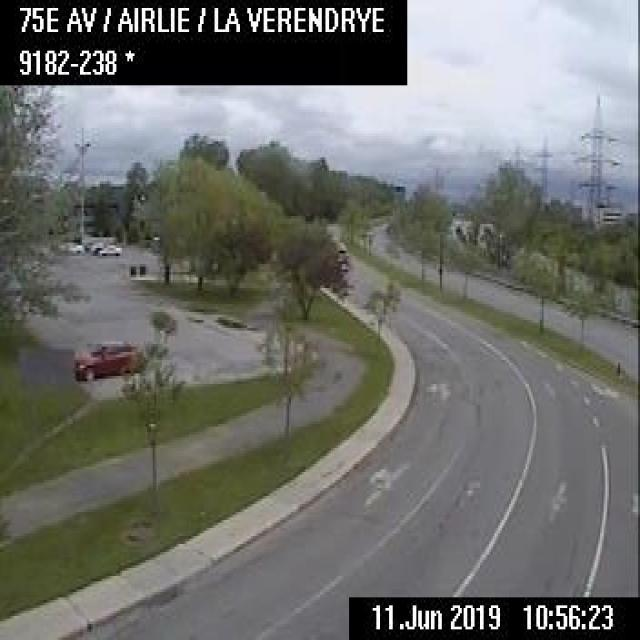vehicle: (72, 336, 146, 378), (97, 242, 121, 255), (57, 241, 82, 252)
